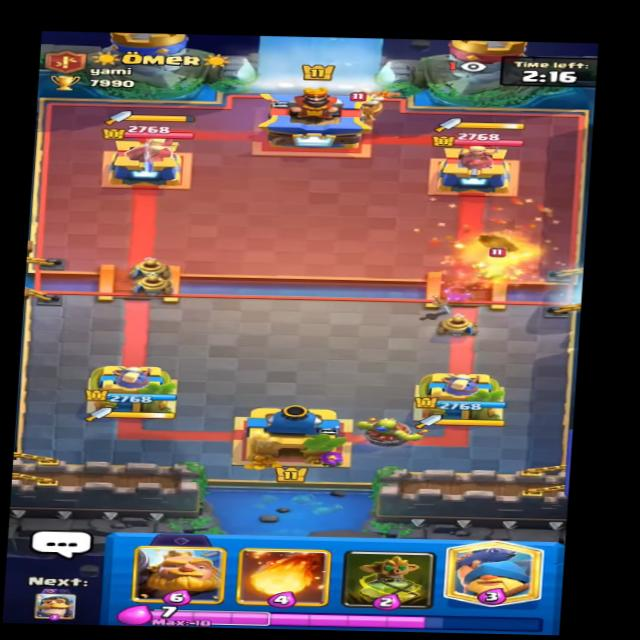monk: (342, 85, 405, 123)
